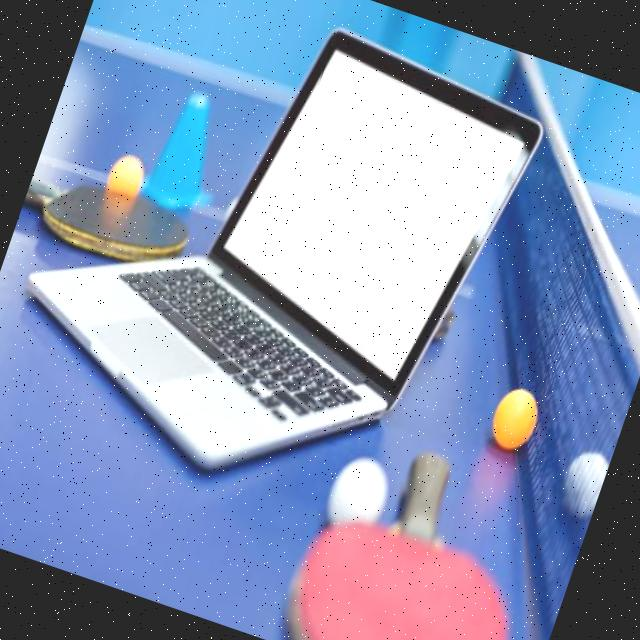ping-pong-ball: (483, 380, 537, 449), (103, 147, 148, 198)
